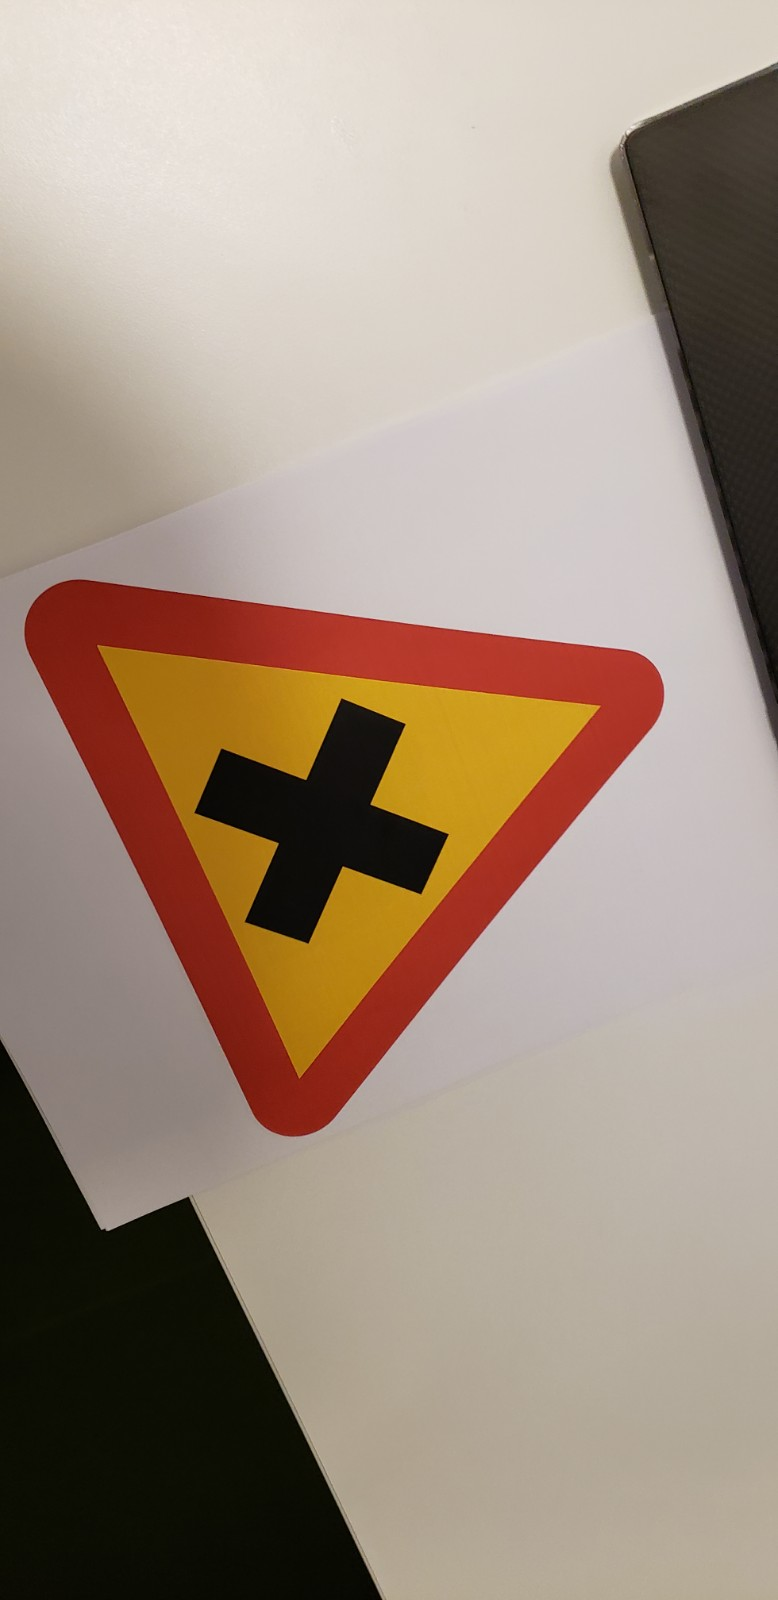junction: (3, 518, 730, 1168)
